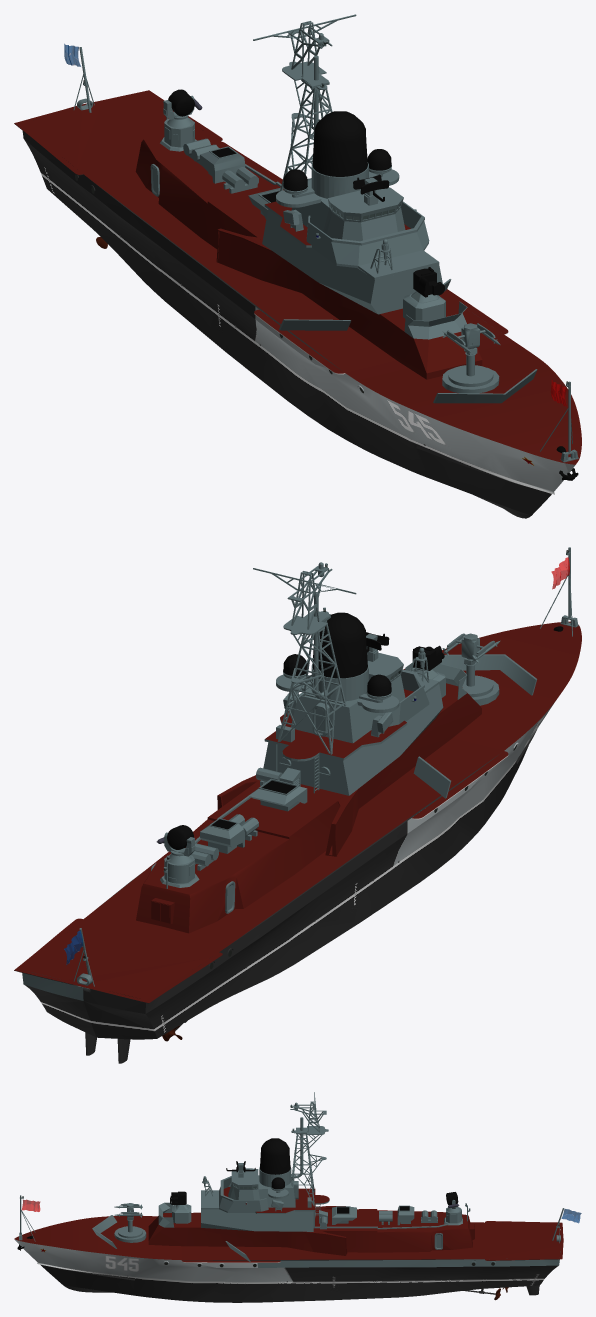
The model's file is ship.FBX.
3 renders of one model, top to bottom at view 1: azimuth 30°, elevation 25°; view 2: azimuth 150°, elevation 25°; view 3: azimuth 270°, elevation 25°, orthographic. The views are drawn at different scales.
Parts seen in each view (by area): view 1: nanucask, nanucub2, nanu1flr, nanubrge, nanucono, nanuthg2, nanumsl, nanurdr1, nanurdr2; view 2: nanucub2, nanu1flr, nanucask, nanubrge, nanucono, nanuthg2, nanumsl; view 3: nanucask, nanu1flr, nanucub2, nanubrge, nanucono, nanuthg2, nanumsl.
Boxes of the visible parts, left/top/right/bottom form: nanucask: left=22, top=131, right=575, bottom=518; nanucub2: left=14, top=90, right=581, bottom=464; nanu1flr: left=135, top=113, right=482, bottom=379; nanubrge: left=253, top=14, right=439, bottom=279; nanucono: left=283, top=111, right=391, bottom=191; nanuthg2: left=73, top=47, right=578, bottom=462; nanumsl: left=442, top=323, right=500, bottom=386; nanurdr1: left=413, top=267, right=444, bottom=297; nanurdr2: left=353, top=174, right=389, bottom=205; nanucub2: left=14, top=621, right=581, bottom=1003; nanu1flr: left=136, top=662, right=481, bottom=933; nanucask: left=22, top=702, right=554, bottom=1063; nanubrge: left=253, top=562, right=439, bottom=761; nanucono: left=283, top=612, right=391, bottom=696; nanuthg2: left=73, top=547, right=578, bottom=986; nanumsl: left=442, top=633, right=500, bottom=697; nanucask: left=14, top=1239, right=560, bottom=1302; nanu1flr: left=148, top=1202, right=474, bottom=1255; nanucub2: left=14, top=1216, right=563, bottom=1262; nanubrge: left=201, top=1092, right=329, bottom=1213; nanucono: left=260, top=1138, right=290, bottom=1189; nanuthg2: left=19, top=1195, right=563, bottom=1261; nanumsl: left=114, top=1203, right=142, bottom=1238.
Bounding box in the file's own units: 4084 × 7686 × 20816.
Materials: 23 (4 with a texture image).
